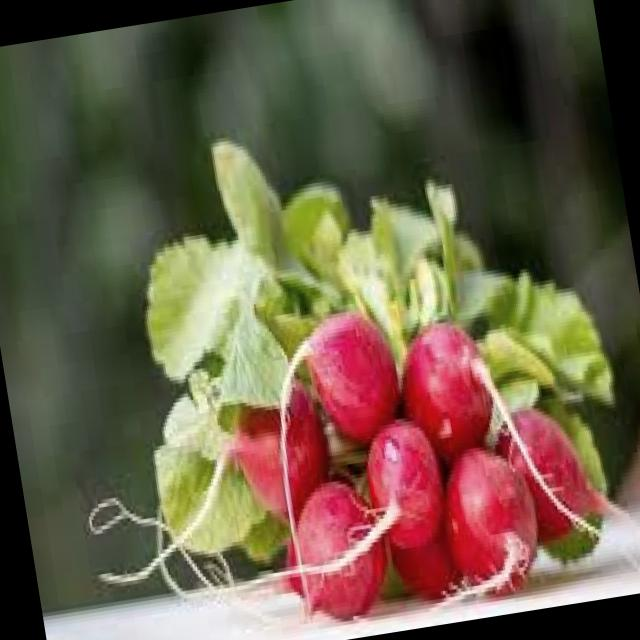rediska: (486, 390, 618, 569), (271, 467, 400, 638), (432, 432, 548, 600), (390, 312, 506, 466), (300, 304, 418, 454), (226, 382, 342, 528), (356, 408, 456, 552), (384, 502, 474, 612)
